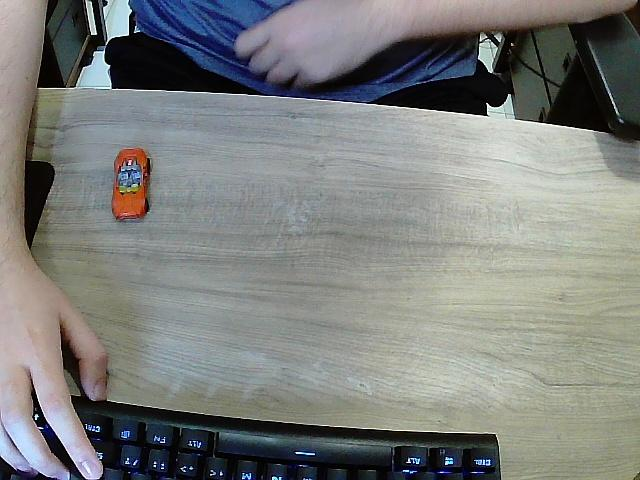Carro: (112, 148, 151, 223)
